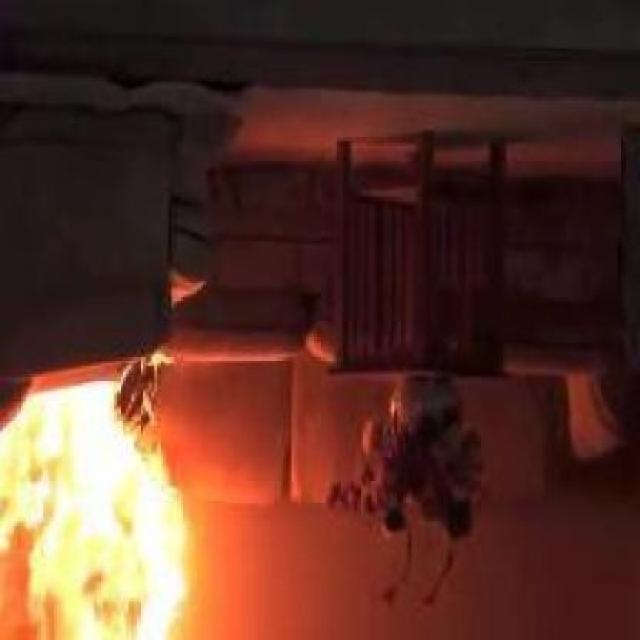fire: (0, 305, 212, 637)
